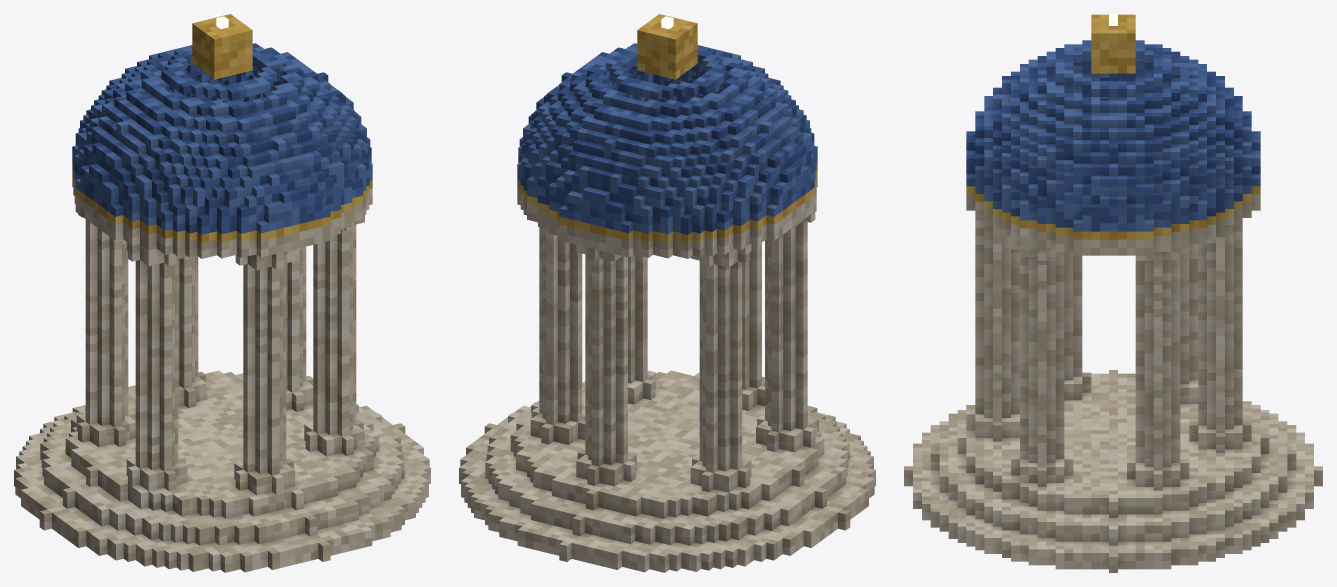
File: haven_kiosque.glb
The picture shows the model from 3 angles, left to right: view 1: azimuth 30°, elevation 25°; view 2: azimuth 150°, elevation 25°; view 3: azimuth 270°, elevation 25°; orthographic projection.
Visible parts, largest first — view 1: haven_kiosque; view 2: haven_kiosque; view 3: haven_kiosque.
Part boxes in pixels (bbox=[...]): haven_kiosque: bbox=[14, 14, 430, 572]; haven_kiosque: bbox=[459, 14, 875, 572]; haven_kiosque: bbox=[904, 14, 1322, 572].
Size of the model in its own units: 2.94 by 3.62 by 2.94.
